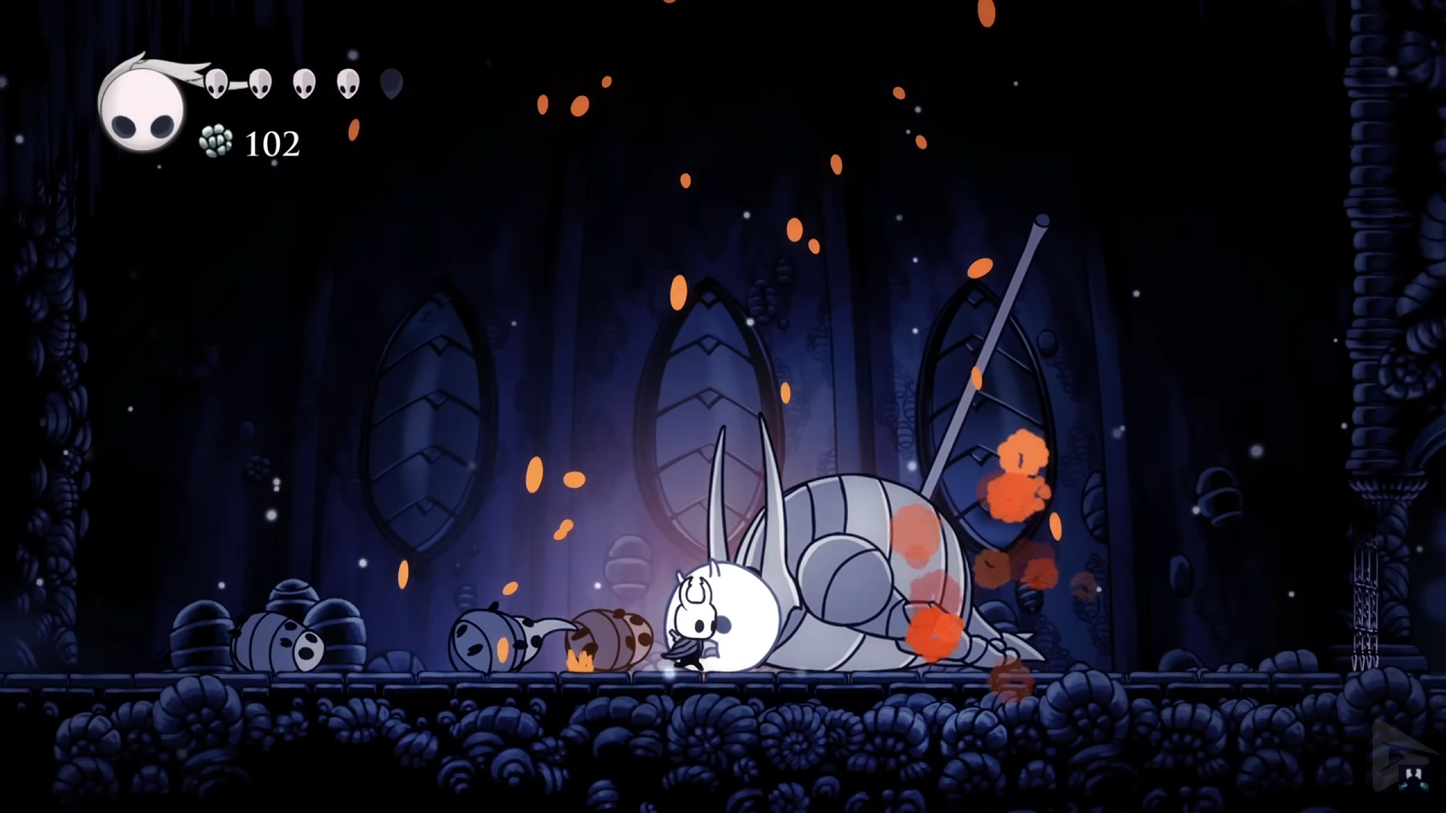HK: (660, 571, 721, 678)
